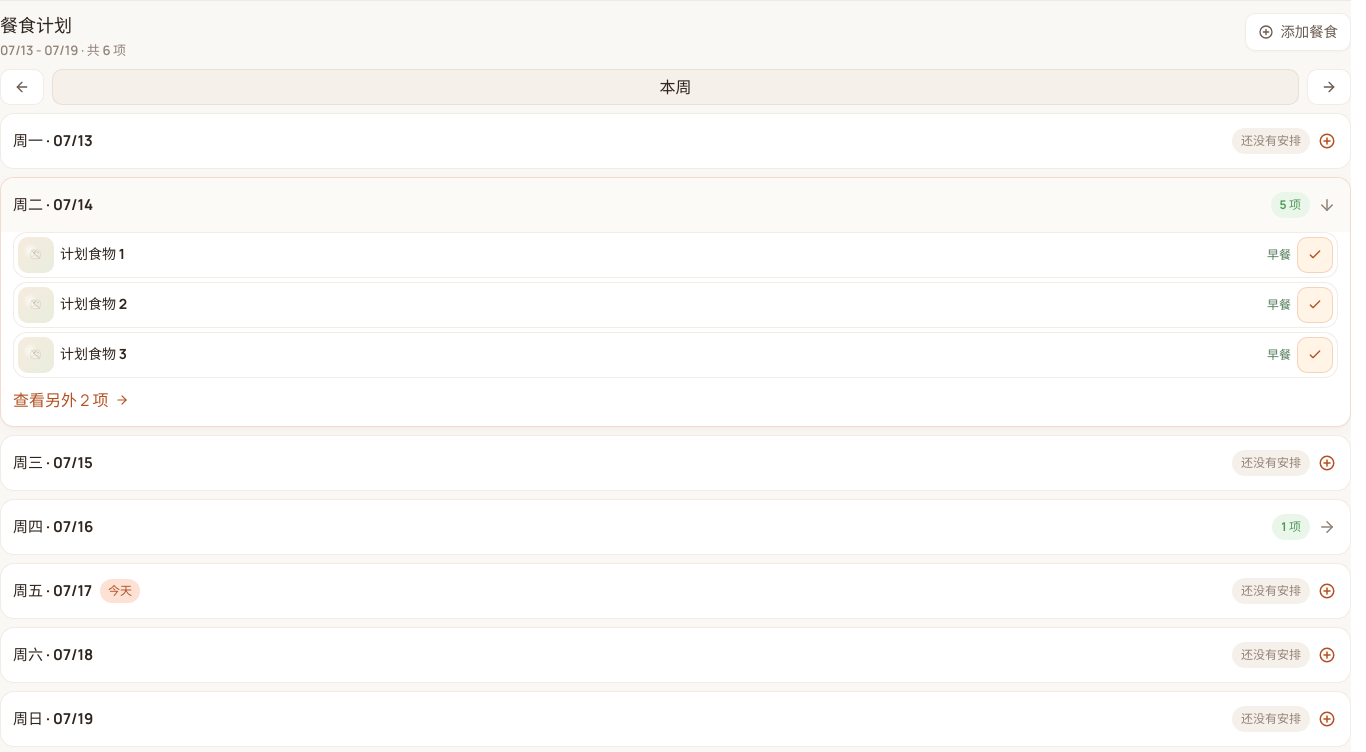
Test: FoodPlanSurface desktop sidebar presentation › shows three items first and reveals the remaining items on request
Expected: the number of buttons with class "food-sidebar-plan-item" is 3, x1=13 y1=232 x2=1338 y2=278; x1=13 y1=282 x2=1338 y2=328; x1=13 y1=332 x2=1338 y2=378
Click the button "查看另外 2 项": (47, 400) x1=13 y1=382 x2=1338 y2=418
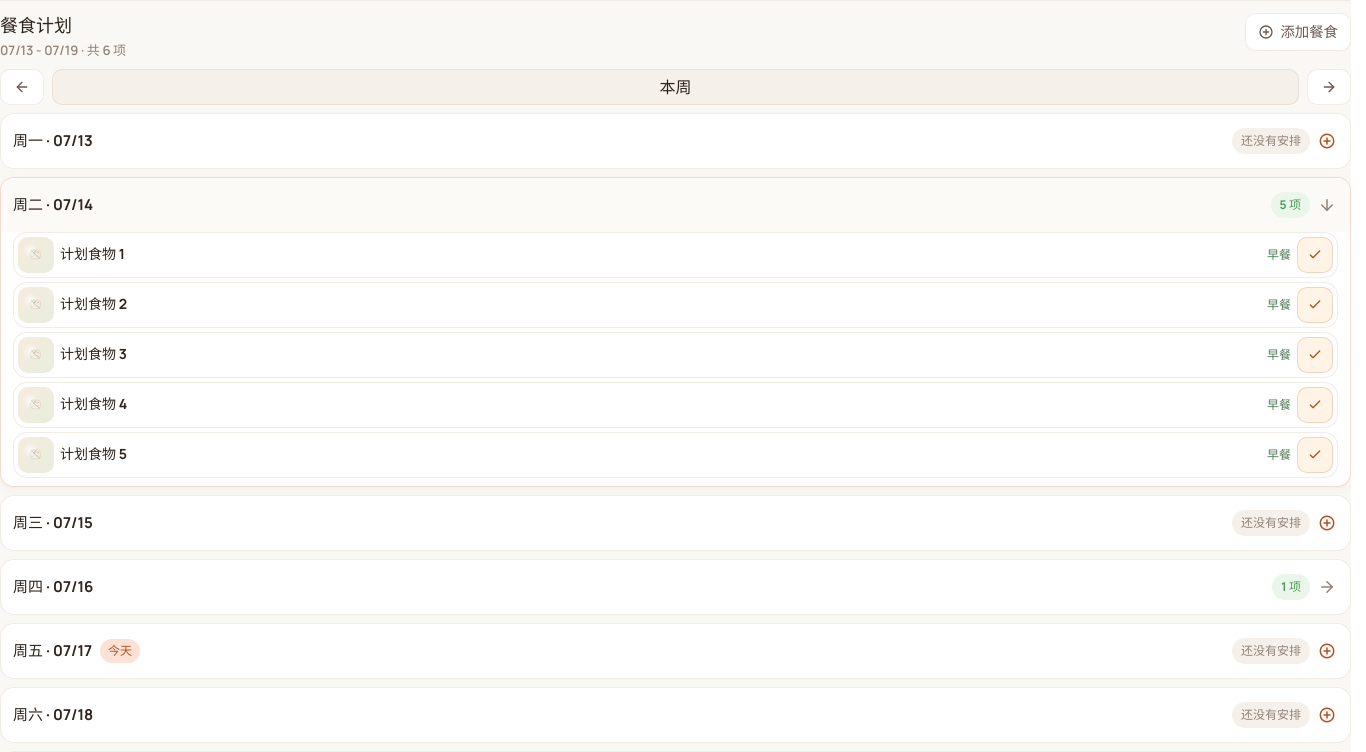
Now the number of buttons with class "food-sidebar-plan-item" is 5, box x1=13 y1=232 x2=1338 y2=278; x1=13 y1=282 x2=1338 y2=328; x1=13 y1=332 x2=1338 y2=378; x1=13 y1=382 x2=1338 y2=428; x1=13 y1=432 x2=1338 y2=478
